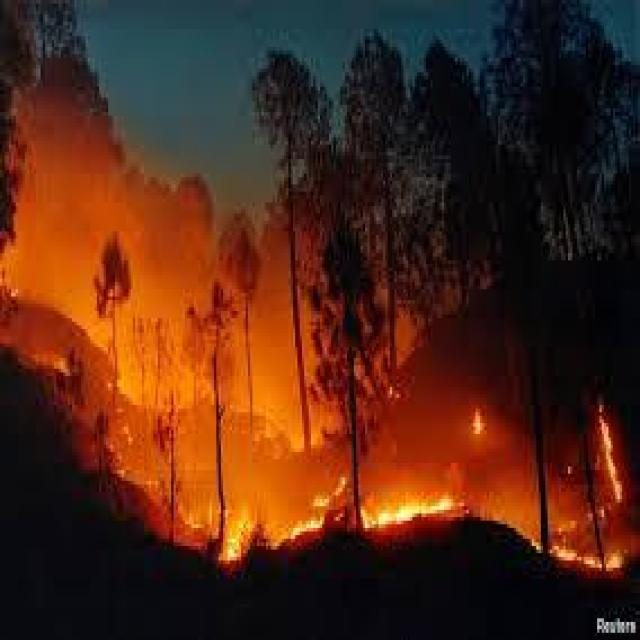fire: (209, 440, 487, 570), (515, 402, 627, 587)
smoke: (52, 181, 268, 402)
